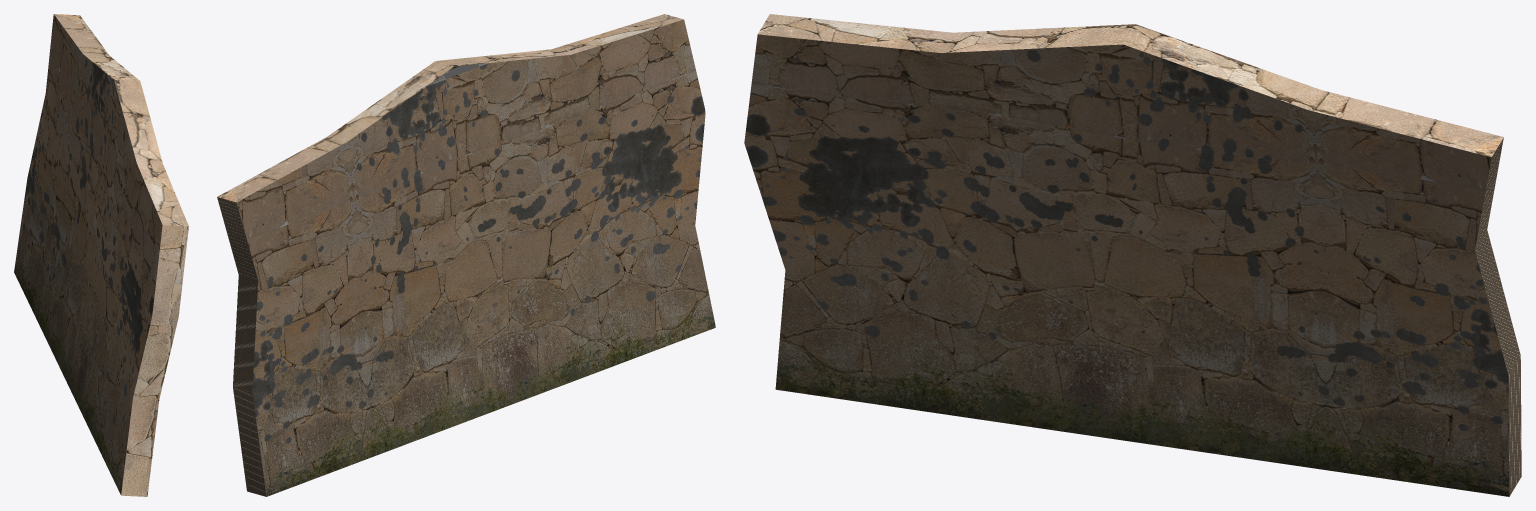
Rendered from muros1grande.fbx.
3 renders of one model, left to right at view 1: azimuth 30°, elevation 25°; view 2: azimuth 150°, elevation 25°; view 3: azimuth 270°, elevation 25°, orthographic. The views are drawn at different scales.
Parts seen in each view (by area): view 1: Box001.001; view 2: Box001.001; view 3: Box001.001.
Boxes of the visible parts, x1=… form: Box001.001: x1=14, y1=14, x2=188, y2=496; Box001.001: x1=217, y1=14, x2=715, y2=496; Box001.001: x1=744, y1=14, x2=1521, y2=496.
Bounding box in the file's own units: 175 × 247 × 402.
